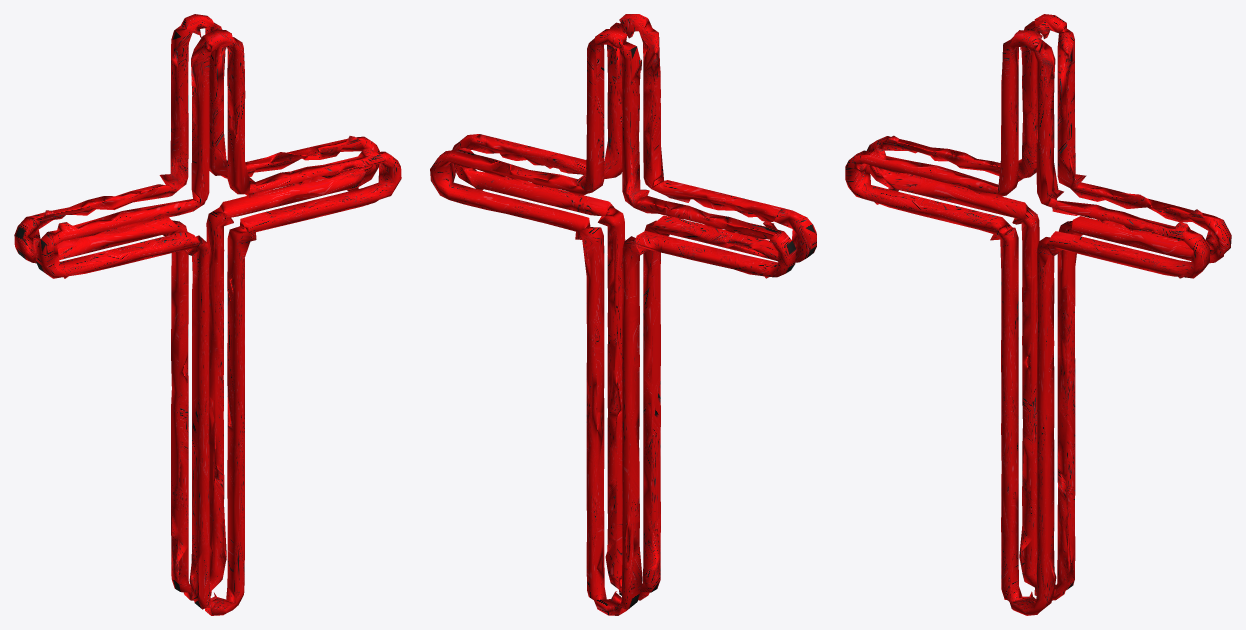
File: cross.glb
The picture shows the model from 3 angles, left to right: view 1: azimuth 30°, elevation 25°; view 2: azimuth 150°, elevation 25°; view 3: azimuth 330°, elevation 25°; orthographic projection.
Bounding box in the file's own units: 1.23 × 1.9 × 0.1905.
1 material, 1 textured.
